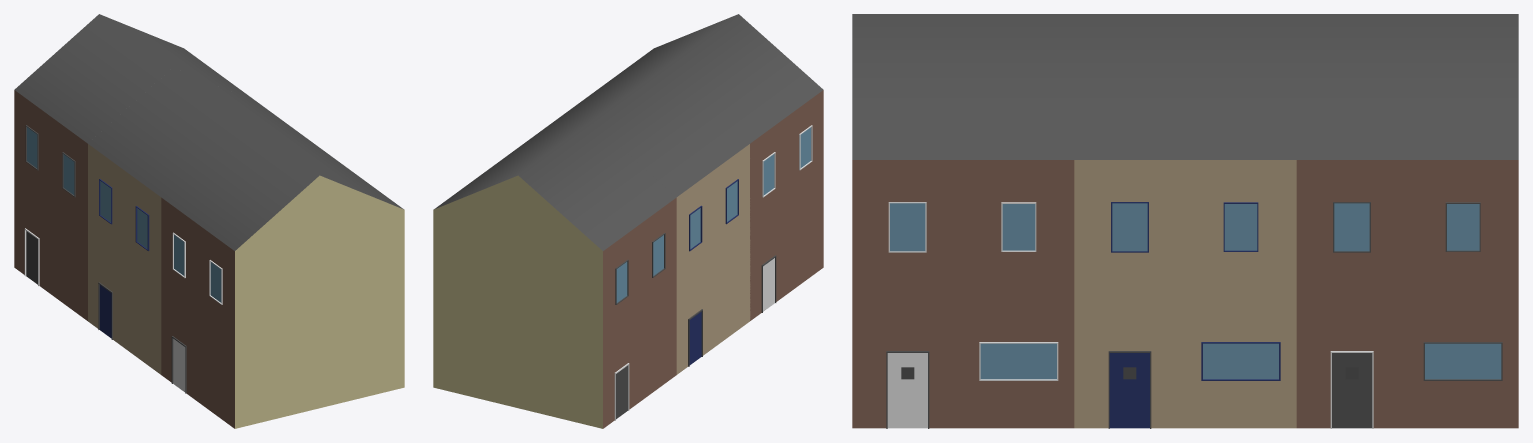
The model's file is Low house 1.fbx.
The picture shows the model from 3 angles, left to right: view 1: azimuth 30°, elevation 25°; view 2: azimuth 150°, elevation 25°; view 3: azimuth 270°, elevation 25°; orthographic projection. The views are drawn at different scales.
Visible parts, largest first — view 1: pCube4; view 2: pCube4; view 3: pCube4.
Boxes of the visible parts, <box> form: pCube4: <box>14,14,404,428</box>; pCube4: <box>433,14,823,428</box>; pCube4: <box>852,14,1518,428</box>.
Size of the model in its own units: 8.08 by 10.48 by 18.
